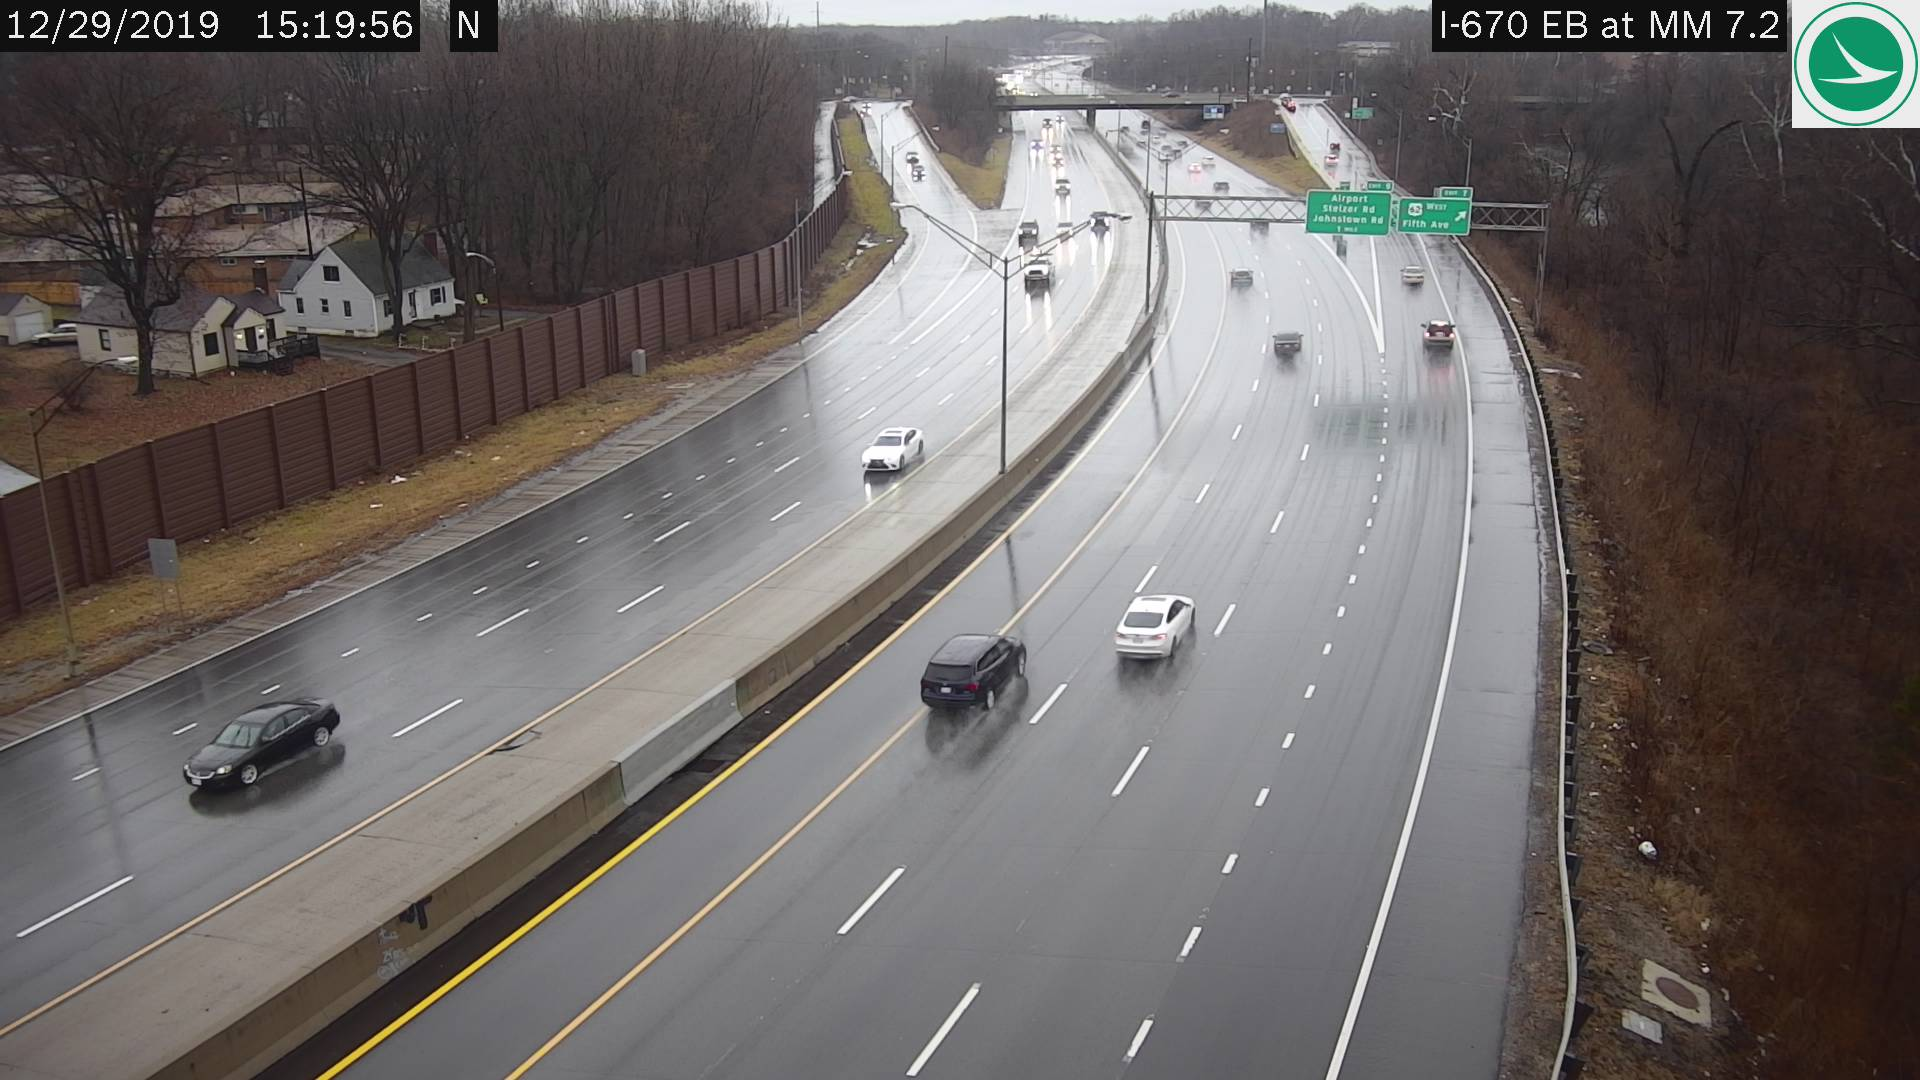car: (182, 700, 342, 793), (922, 632, 1022, 708), (1114, 592, 1193, 665), (862, 425, 922, 472), (1022, 252, 1054, 287), (1422, 320, 1455, 348), (1274, 328, 1302, 356), (1230, 264, 1254, 287), (1018, 216, 1042, 236), (1398, 264, 1418, 284)
